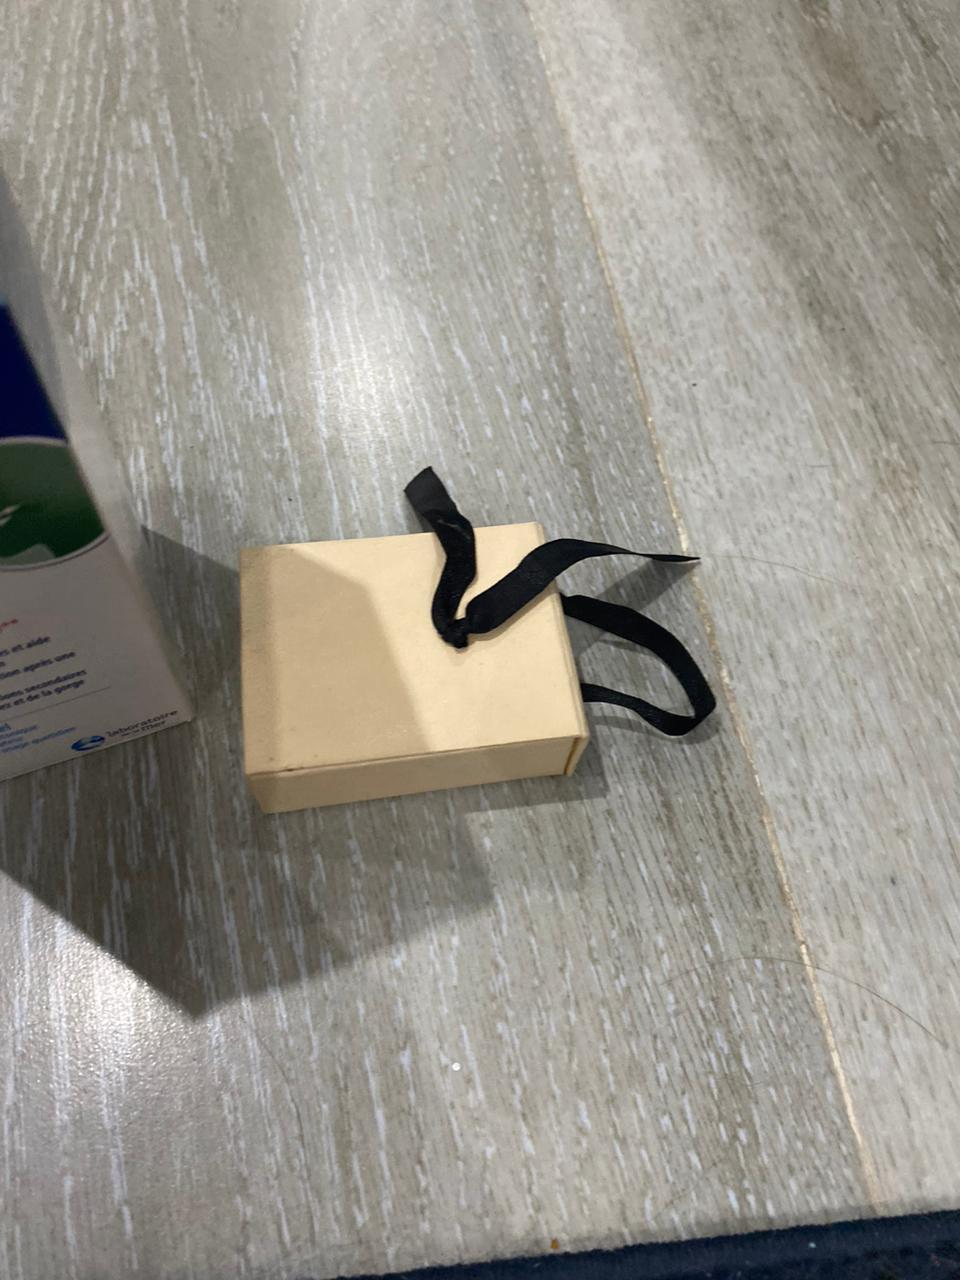Physiomer: (1, 152, 213, 749)
Yellow Box: (221, 516, 601, 824)
